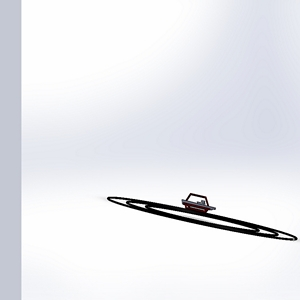circle: (102, 184, 299, 251)
submarine: (173, 187, 223, 219)
